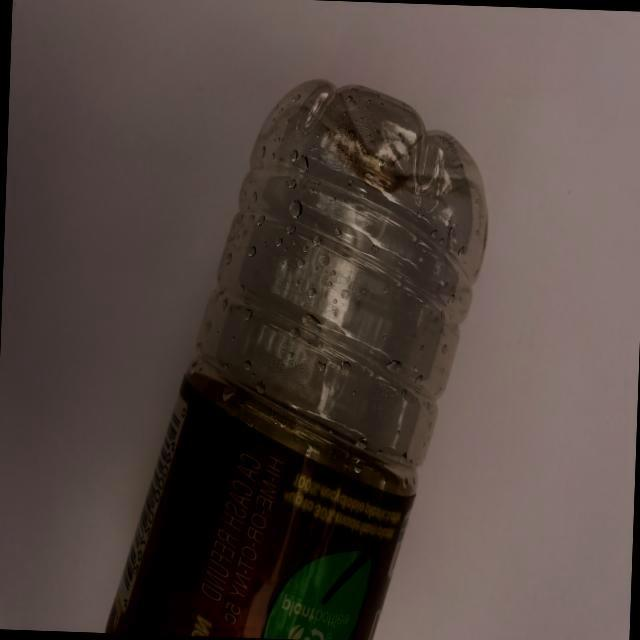plastic: (87, 60, 508, 640)
